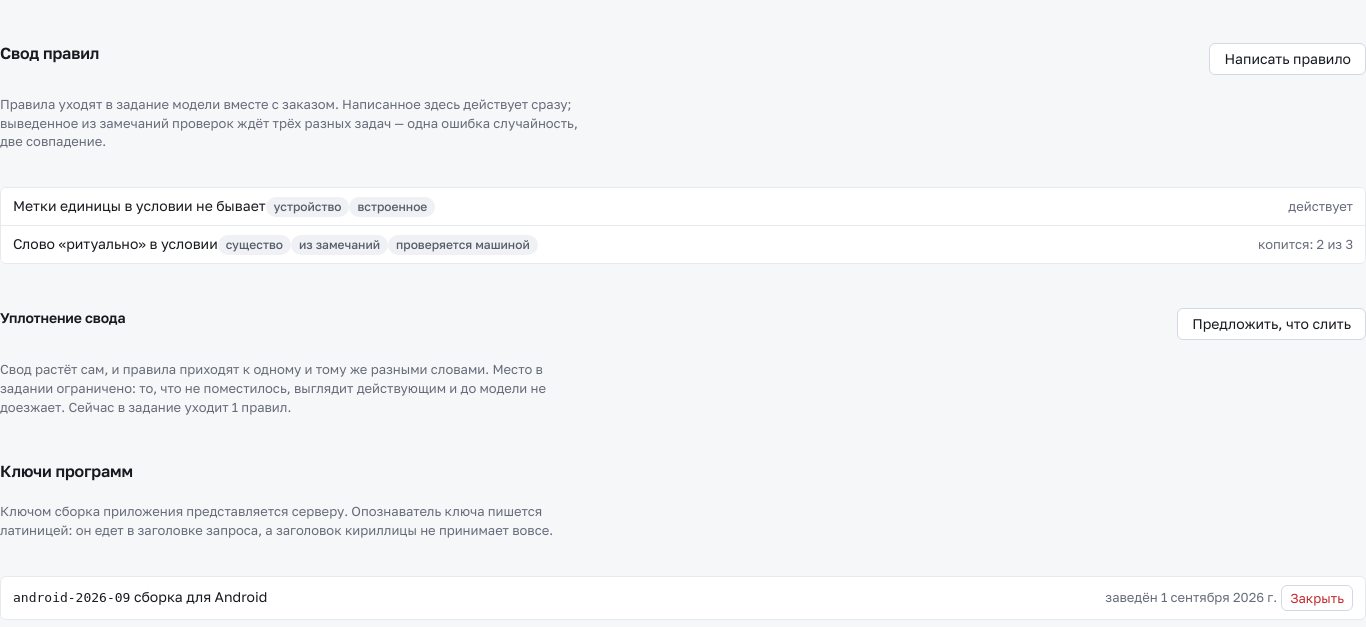
Test: мастерская › нынешняя проверка читается словами сервера
(page scrolled)
Step 1. Click the text "Слово «ритуально» в условии" → x=275, y=245, box 13,234 -> 538,255
(page scrolled)
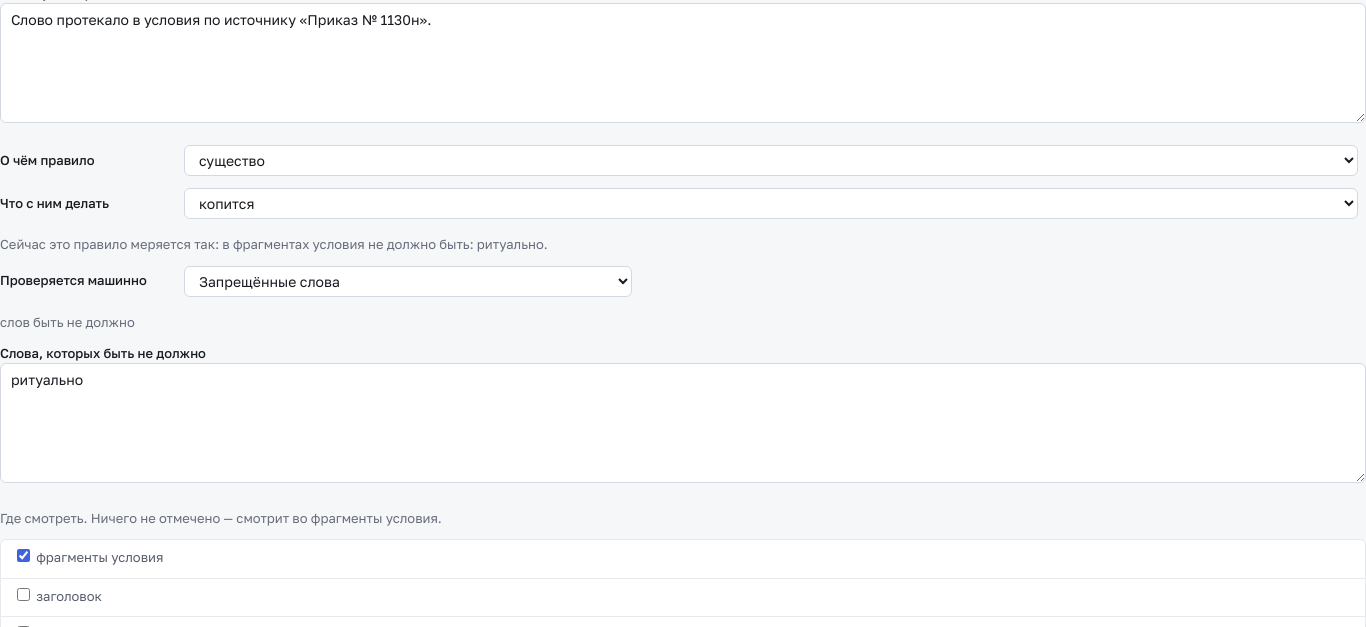
expect the text "в фрагментах условия не должно быть: ритуально" is shown: met, box 222,236 -> 544,252
